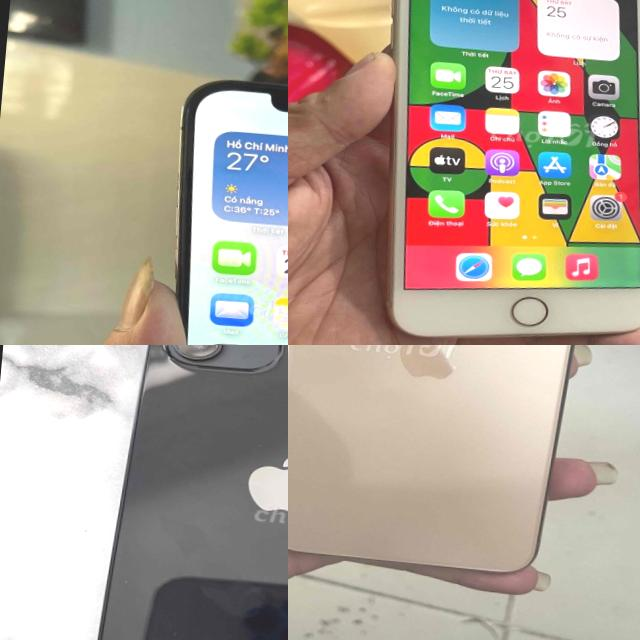gen_11: (288, 345, 574, 571)
gen_12_13: (97, 345, 288, 640), (143, 76, 288, 345)
gen_7_8: (382, 0, 640, 339)
